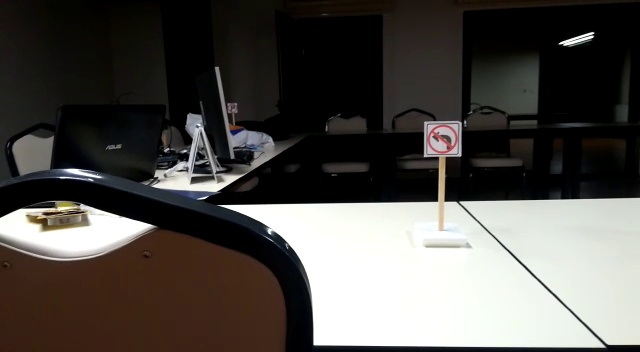sola_donulmez: (424, 121, 462, 158)
